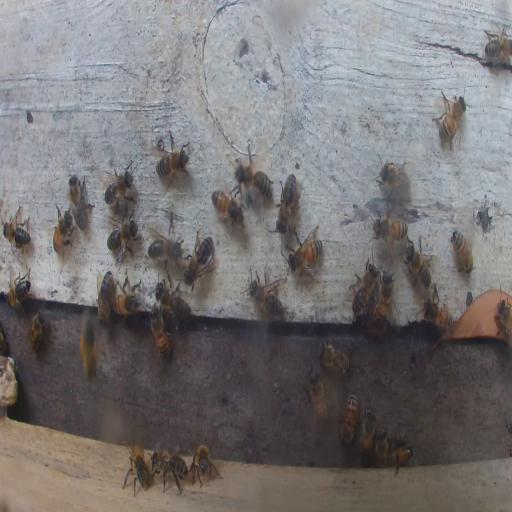nonpollenbee: (432, 90, 467, 151), (236, 151, 274, 204), (245, 274, 285, 324), (156, 133, 190, 186), (184, 232, 214, 288), (274, 171, 301, 233), (288, 227, 322, 276), (350, 260, 378, 318), (154, 449, 187, 498), (480, 23, 512, 70), (374, 156, 411, 196), (404, 239, 433, 289), (370, 270, 394, 330), (188, 442, 220, 487), (103, 163, 134, 208), (156, 281, 190, 322), (107, 215, 138, 259), (122, 446, 149, 494), (317, 341, 351, 379), (68, 174, 91, 230), (147, 228, 182, 264), (424, 295, 453, 338), (210, 189, 242, 225), (113, 280, 145, 316), (450, 228, 474, 275), (339, 390, 359, 446), (308, 371, 329, 424), (52, 206, 73, 256), (371, 215, 407, 244), (150, 307, 170, 359), (6, 270, 31, 307), (358, 408, 376, 458), (96, 272, 114, 322), (26, 308, 45, 354), (4, 217, 30, 246), (494, 298, 511, 340), (388, 444, 414, 468), (376, 426, 389, 465)
pollenbee: (80, 314, 99, 384)
